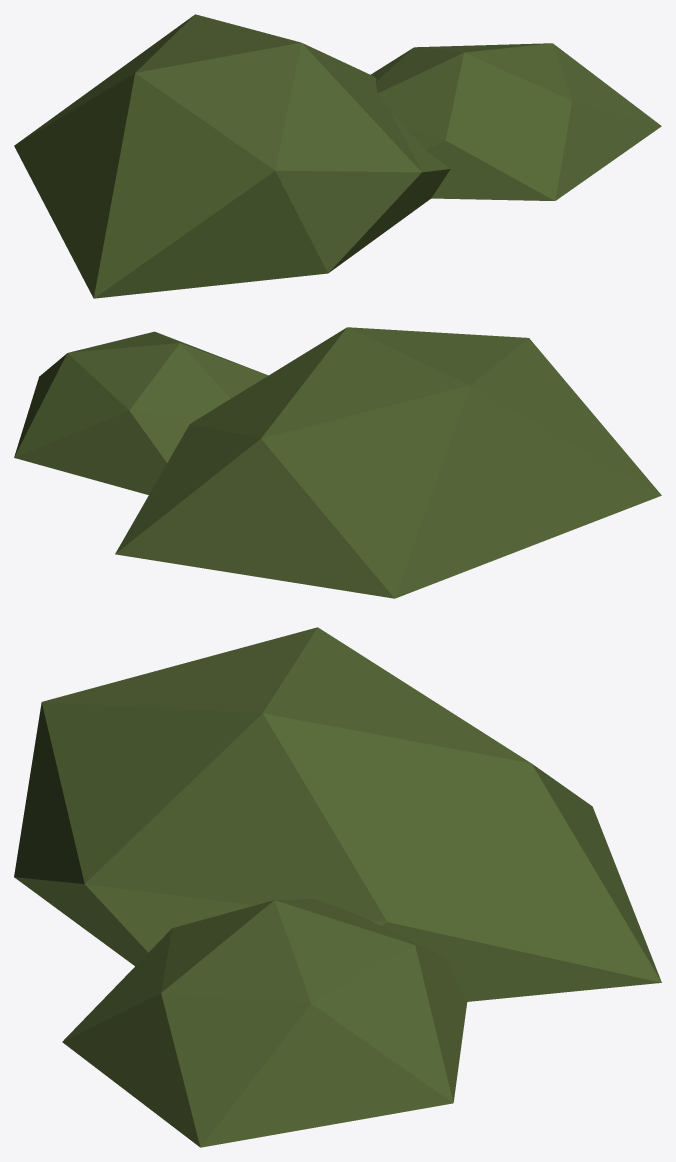
The model's file is Moss.fbx.
3 renders of one model, top to bottom at view 1: azimuth 30°, elevation 25°; view 2: azimuth 150°, elevation 25°; view 3: azimuth 270°, elevation 25°, orthographic. The views are drawn at different scales.
Parts seen in each view (by area): view 1: Moss; view 2: Moss; view 3: Moss.
Part boxes in pixels (bbox=[...]): Moss: bbox=[14, 14, 661, 298]; Moss: bbox=[14, 327, 661, 598]; Moss: bbox=[14, 627, 661, 1147].
Size of the model in its own units: 63.14 by 14.97 by 42.53.
1 material, 1 textured.
